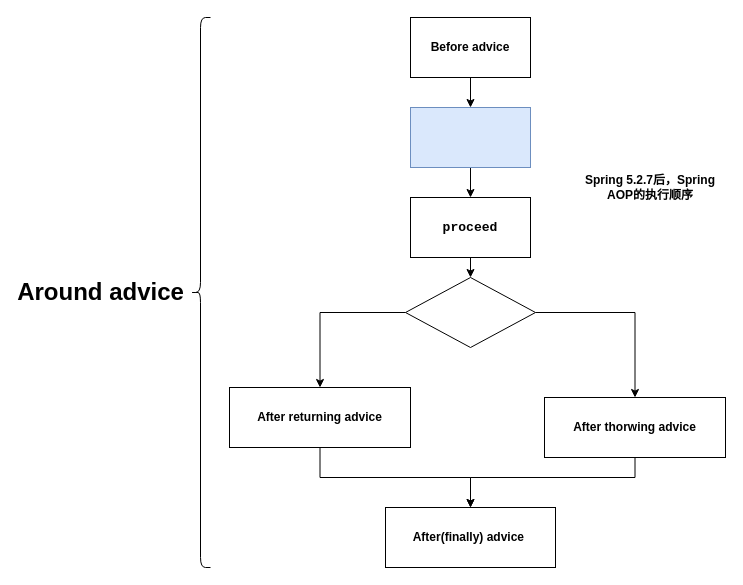
Image size: 743x585. Some labels were removed from this diagram. Each missing label, with the centre of its shape:
"catch(Exception e)" belongs at (x=470, y=312).
"Join point" belongs at (x=470, y=137).
